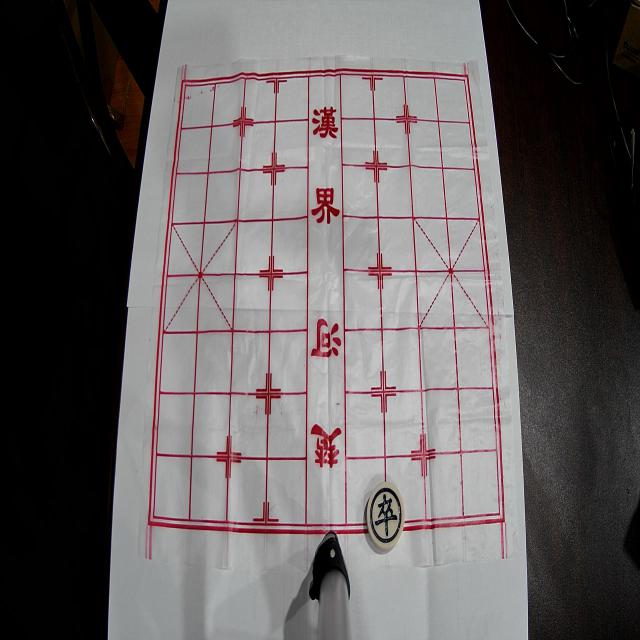black-soldier: (367, 482, 405, 550)
